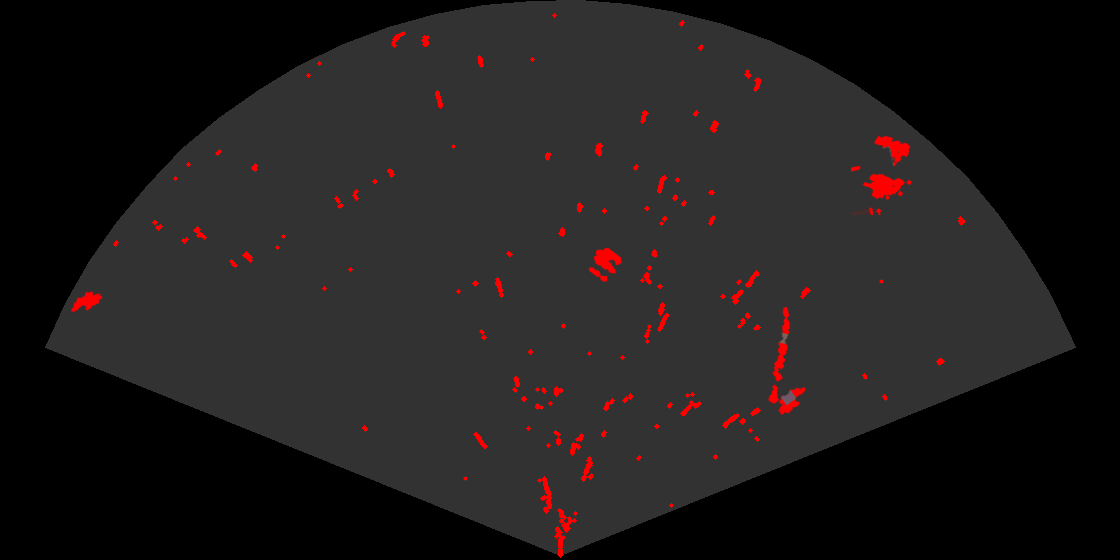AUV: (777, 386, 808, 416), (69, 290, 104, 314)
ball: (587, 246, 623, 283)
cage: (851, 134, 914, 215)
chain: (767, 305, 792, 406)
